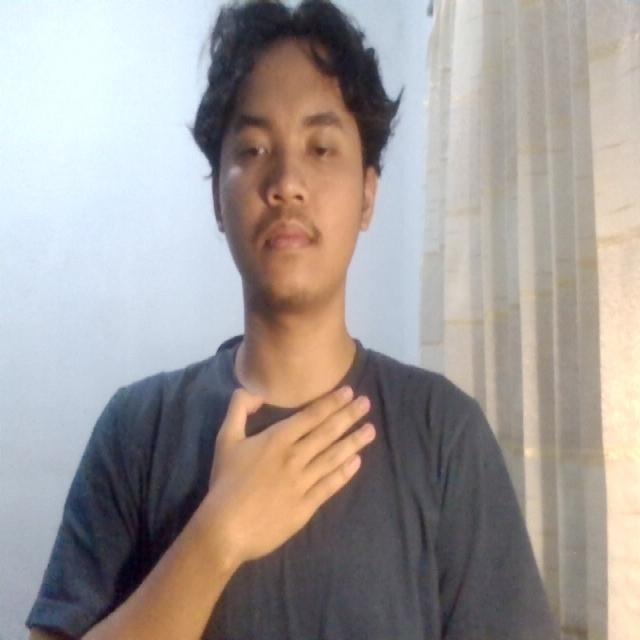Nama: (188, 362, 401, 570)
